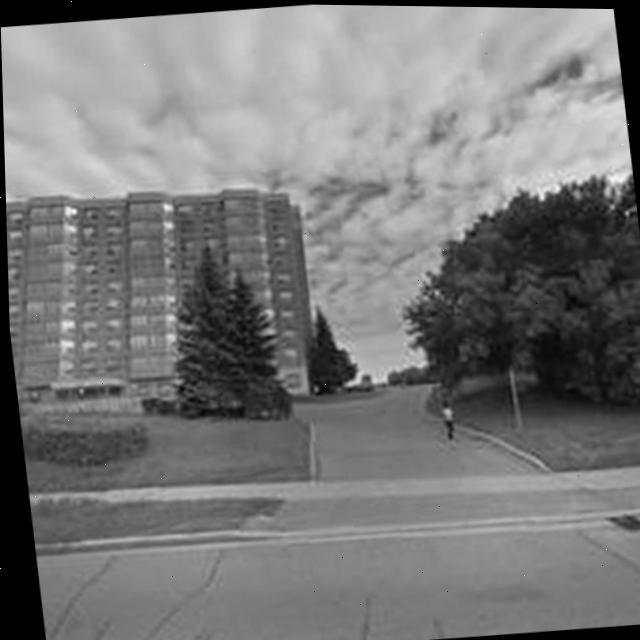building: (5, 172, 322, 427)
